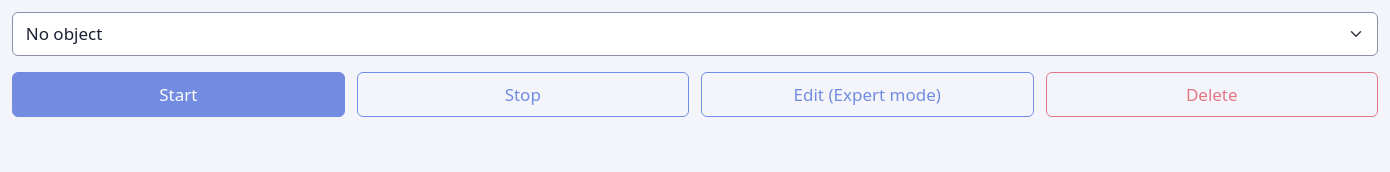
Test case: does not offer to delete a system object
Select "Name: first" in the dropdown at [695, 34], box [12,12,1378,56]
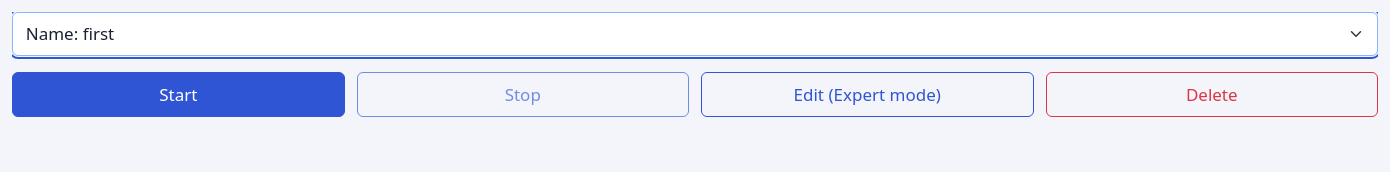
Expected: the text "system object" is not shown
Now the button "Delete" is enabled, box [1046,72,1378,116]
Select "Name: x11container" in the dropdown at [695, 34], box [12,12,1378,56]
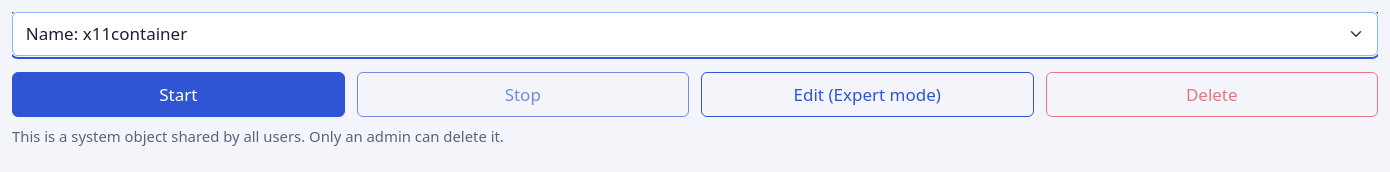
Now the button "Delete" is disabled, box [1046,72,1378,116]
Now the text "system object shared by all users" is shown, box [12,126,504,146]
